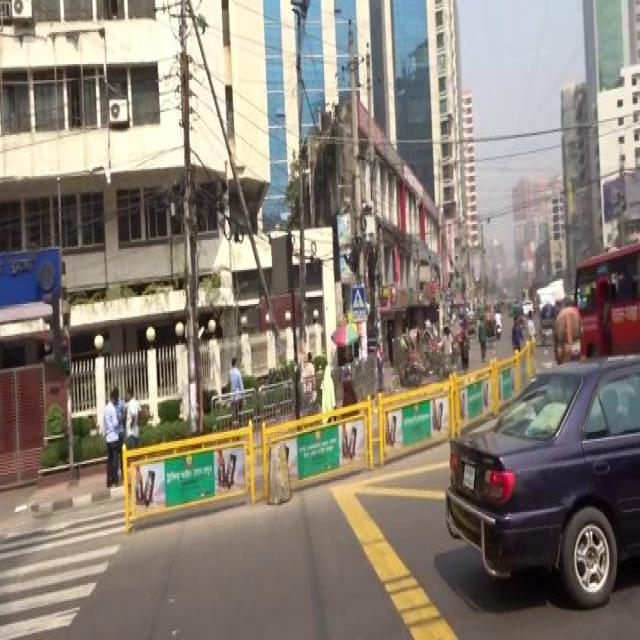bus: (572, 238, 640, 356)
car: (444, 354, 640, 585), (522, 298, 532, 314)
motorbike: (494, 321, 502, 337)
rickshaw: (399, 332, 441, 386), (552, 304, 582, 357), (409, 324, 433, 362), (538, 300, 552, 340), (464, 309, 476, 338)
